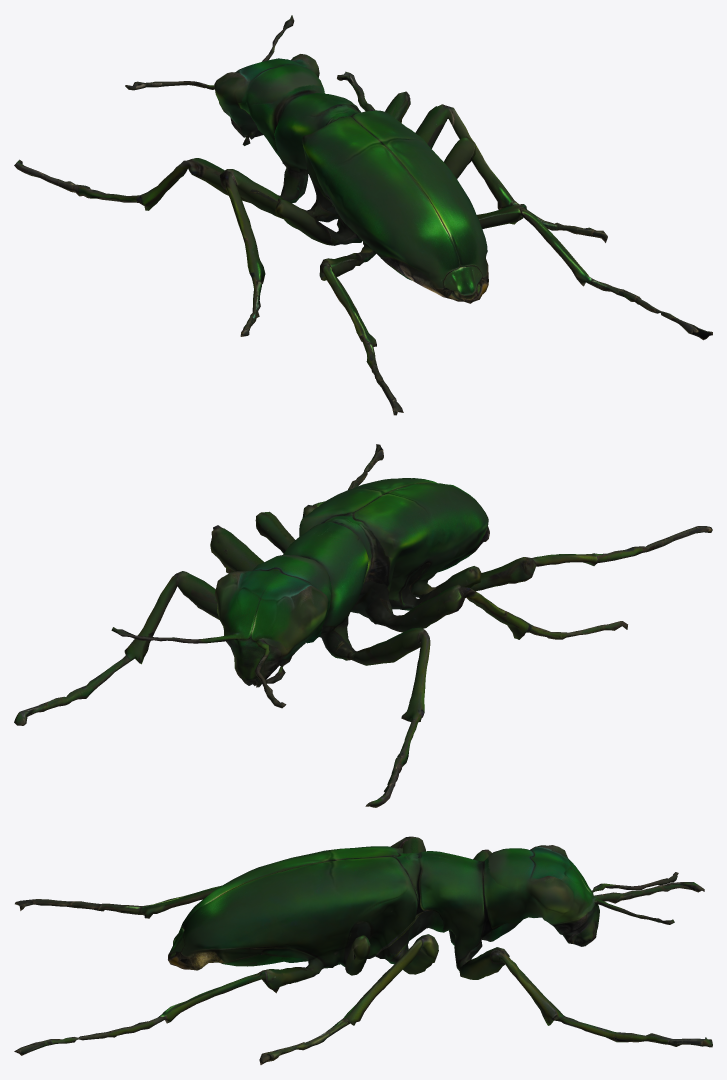
File: northern-barrens-tiger-beetle.glb
The picture shows the model from 3 angles, top to bottom: view 1: azimuth 30°, elevation 25°; view 2: azimuth 150°, elevation 25°; view 3: azimuth 270°, elevation 25°; orthographic projection. The views are drawn at different scales.
Bounding box in the file's own units: 1.21 × 0.3878 × 1.99.
Materials: 1 (1 with a texture image).
